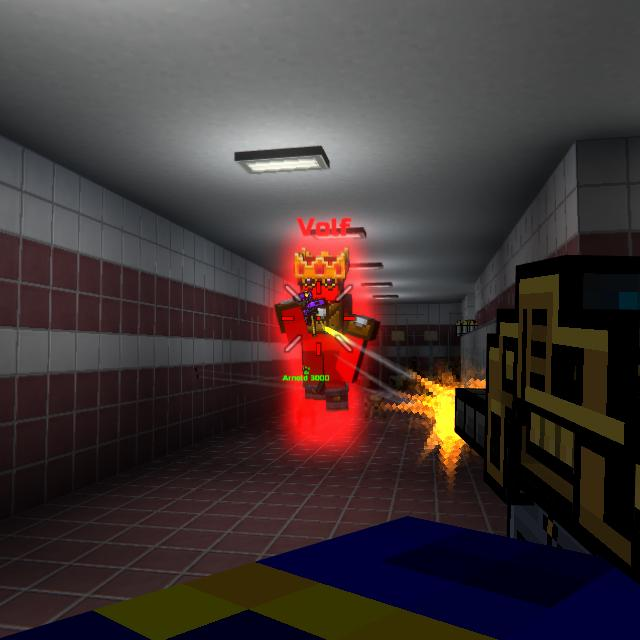Enemy: (277, 254, 382, 413)
